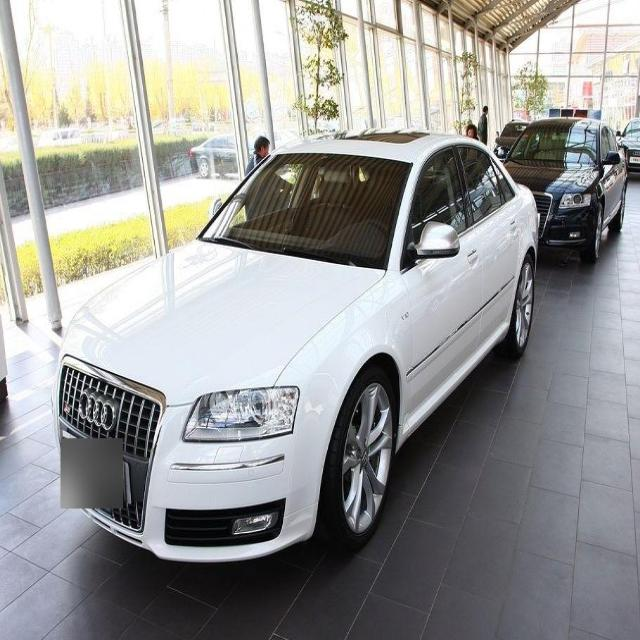front_bumper: (56, 402, 322, 566)
front_glass: (194, 149, 414, 274)
front_left_side_door: (397, 144, 479, 437)
front_left_side_light: (182, 382, 300, 446)
front_left_side_mirror: (414, 218, 464, 269)
wheel: (326, 367, 396, 545), (509, 254, 539, 354)
